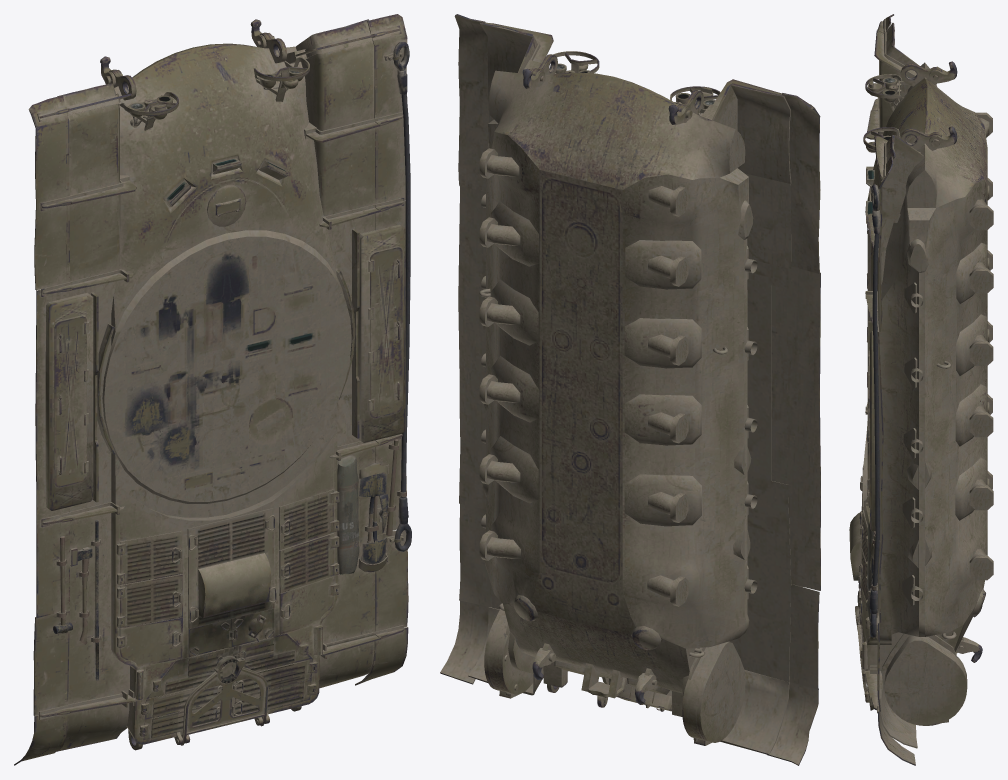
File: Hull.glb
3 renders of one model, left to right at view 1: azimuth 30°, elevation 25°; view 2: azimuth 150°, elevation 25°; view 3: azimuth 270°, elevation 25°, orthographic. The views are drawn at different scales.
Parts seen in each view (by area): view 1: set_0_group_0; view 2: set_0_group_0; view 3: set_0_group_0.
Boxes of the visible parts, x1,y1,x2,y2 form: set_0_group_0: [14, 14, 411, 765]; set_0_group_0: [440, 14, 820, 765]; set_0_group_0: [849, 14, 993, 765].
Size of the model in its own units: 3.74 by 6.47 by 1.41.
Materials: 1 (1 with a texture image).
